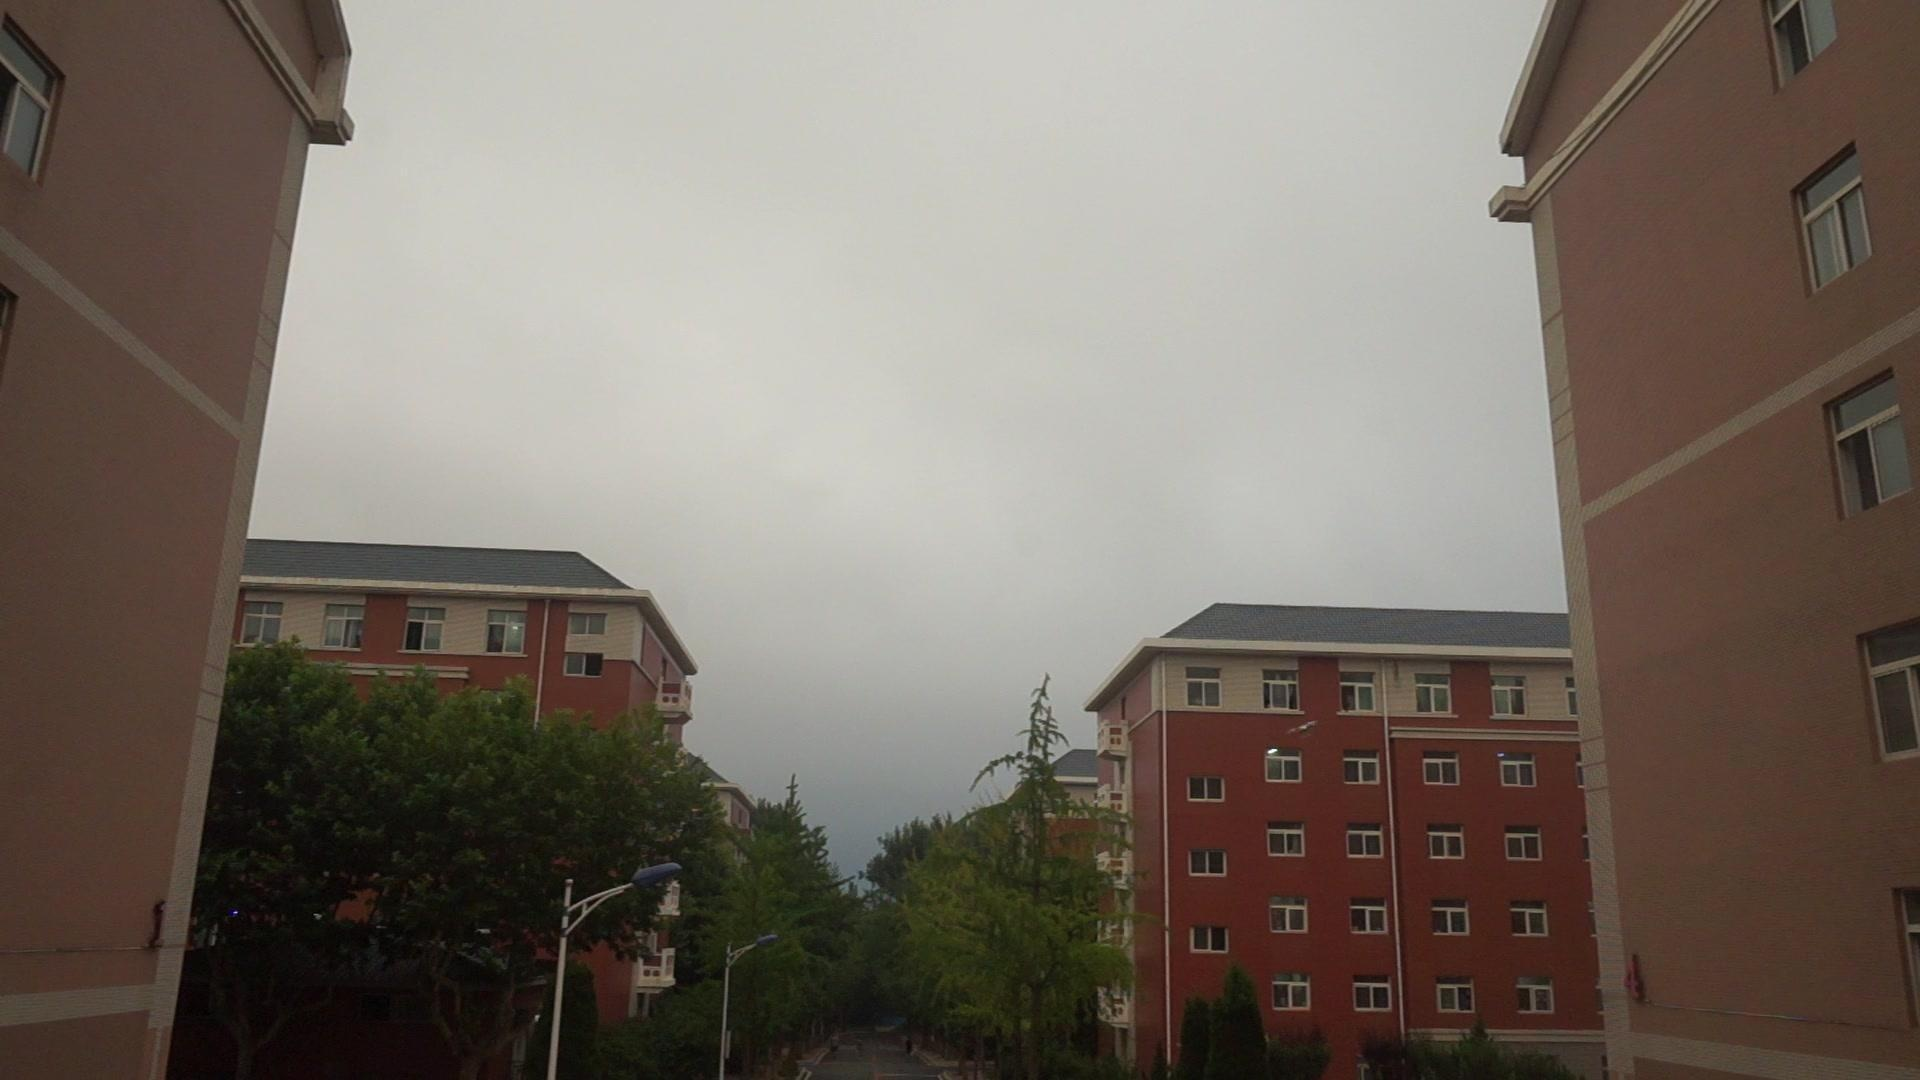UAV: (1288, 721, 1319, 738)
